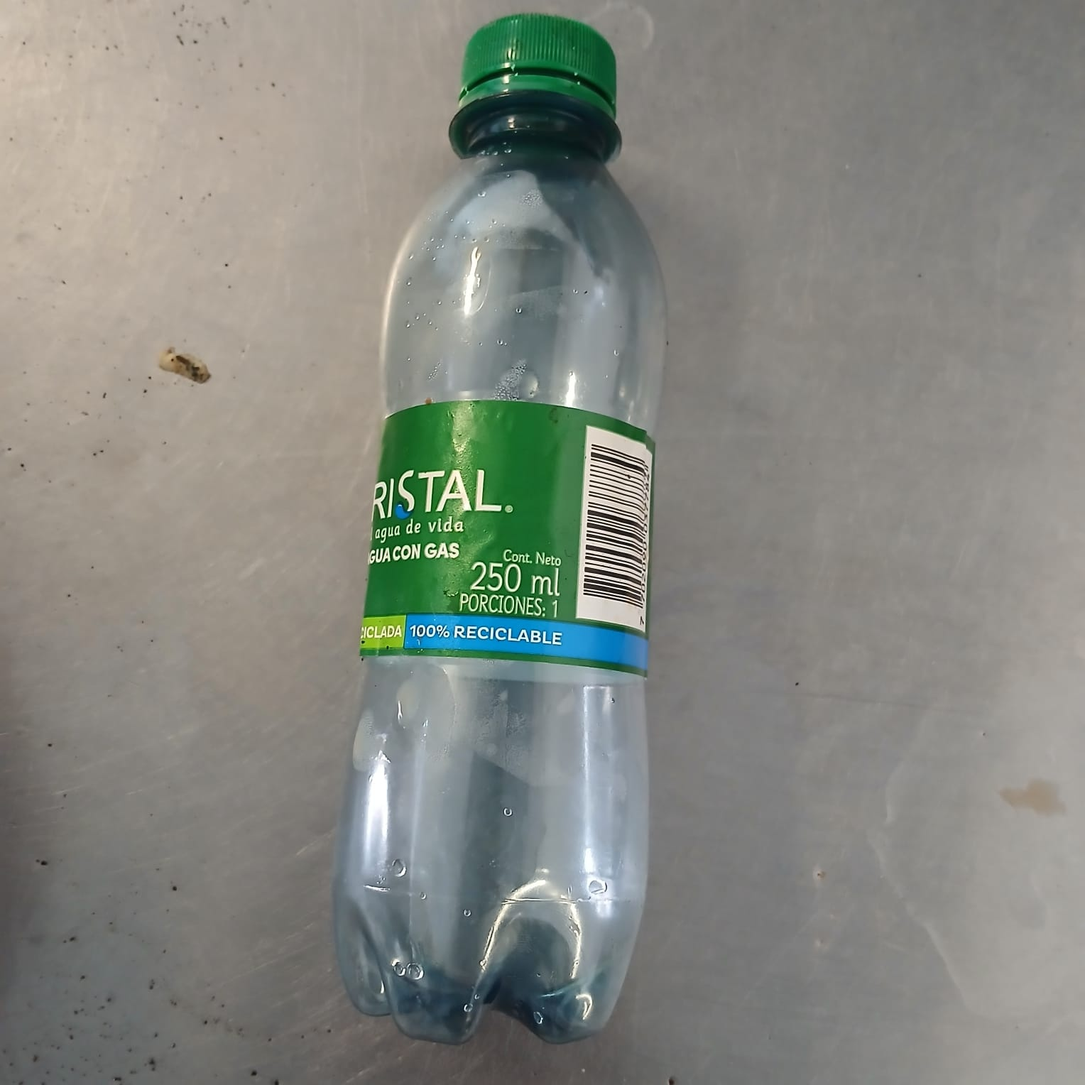Plastico: (334, 14, 669, 1041)
